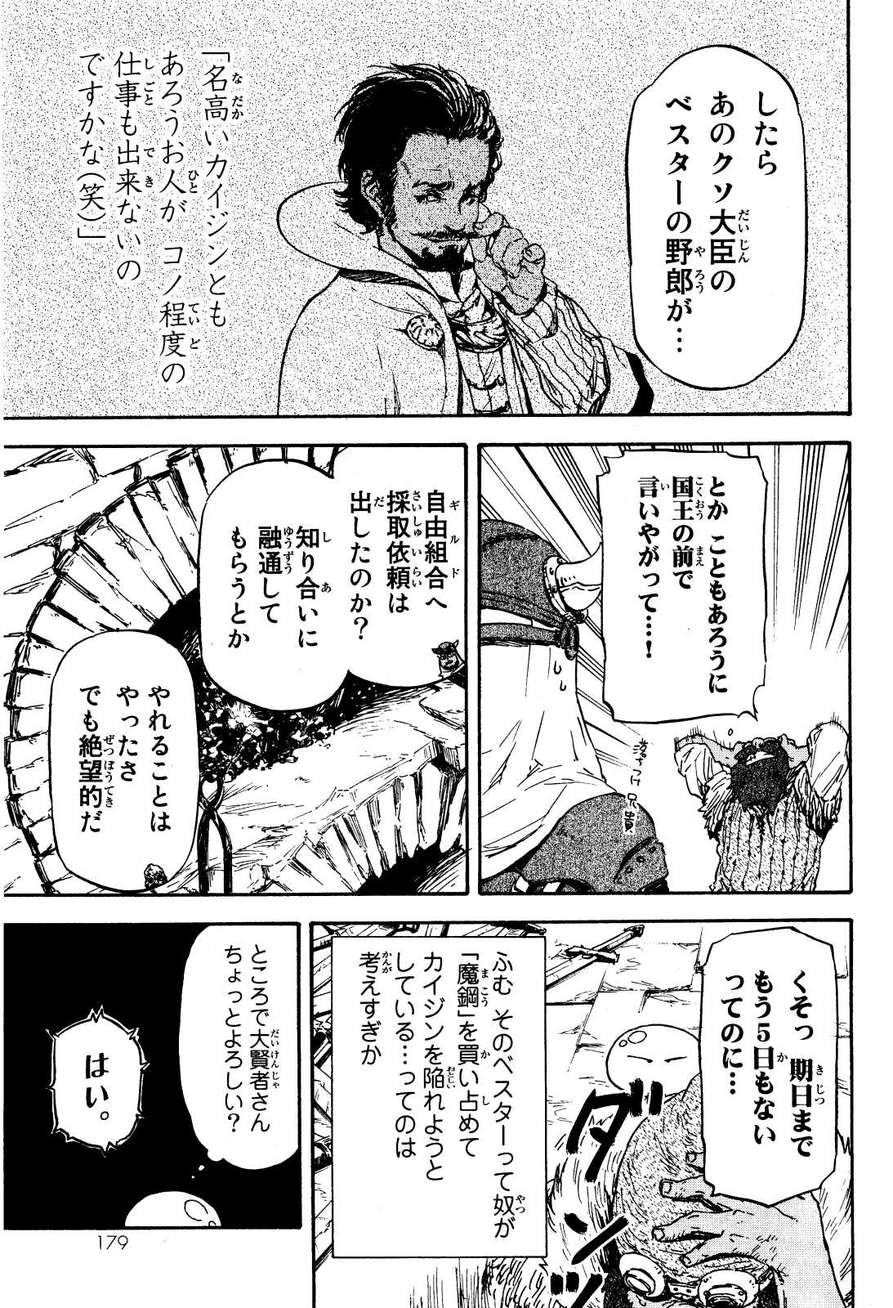bubbles: (327, 932, 554, 1265), (192, 446, 468, 706), (617, 41, 813, 393), (587, 447, 781, 737), (44, 627, 210, 896), (690, 924, 845, 1210), (176, 924, 301, 1187), (42, 998, 154, 1160)
